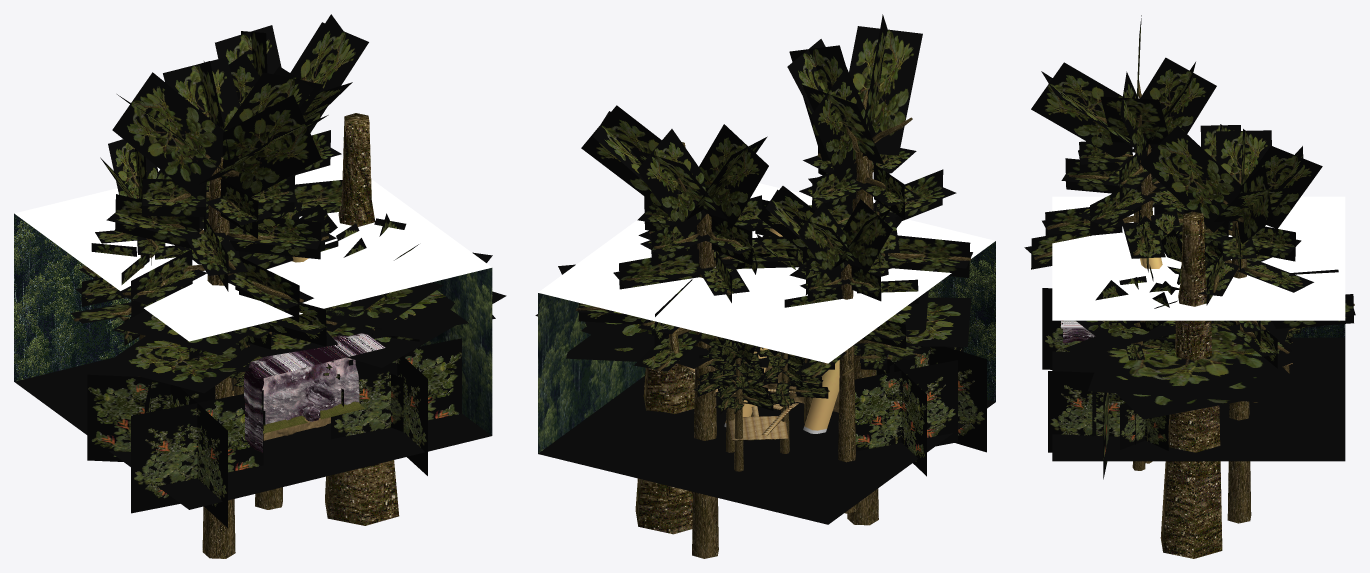
File: ForestRework.glb
3 renders of one model, left to right at view 1: azimuth 30°, elevation 25°; view 2: azimuth 150°, elevation 25°; view 3: azimuth 270°, elevation 25°, orthographic. The views are drawn at different scales.
Parts seen in each view (by area): view 1: tree.008, bush.001, skylight, skybox, void, bigTreeLeaves.003, tree.004, terrain, giantTree, tree.003, bigTreeLeaves.002, bigTreeLeaves (+2 smaller); view 2: tree.004, tree.008, void, skylight, tree.003, skybox, bush.001, giantTree, tree.002, bigTreeLeaves.003, tree.006, bigTreeLeaves.002 (+6 smaller); view 3: tree.004, tree.008, skylight, void, giantTree, bigTreeLeaves.002, bush.001, bigTreeLeaves.001, bigTreeLeaves, tree.011, bigTreeLeaves.003, tree.016 (+4 smaller).
Part boxes in pixels (left/top/right/bottom): tree.008: left=106, top=57, right=338, bottom=558; bush.001: left=87, top=338, right=461, bottom=527; skylight: left=14, top=155, right=491, bottom=341; skybox: left=14, top=213, right=492, bottom=435; void: left=14, top=357, right=491, bottom=509; bigTreeLeaves.003: left=101, top=282, right=443, bottom=393; tree.004: left=204, top=14, right=368, bottom=509; terrain: left=244, top=333, right=385, bottom=452; giantTree: left=325, top=113, right=399, bottom=525; tree.003: left=70, top=139, right=183, bottom=376; bigTreeLeaves.002: left=366, top=252, right=492, bottom=340; bigTreeLeaves: left=347, top=291, right=506, bottom=367; tree.004: left=576, top=105, right=802, bottom=558; tree.008: left=755, top=14, right=972, bottom=525; void: left=538, top=375, right=995, bottom=524; skylight: left=538, top=183, right=995, bottom=363; tree.003: left=757, top=186, right=924, bottom=513; skybox: left=538, top=241, right=995, bottom=453; bush.001: left=716, top=346, right=986, bottom=476; giantTree: left=635, top=142, right=694, bottom=534; tree.002: left=706, top=336, right=776, bottom=471; bigTreeLeaves.003: left=854, top=290, right=971, bottom=346; tree.006: left=763, top=349, right=829, bottom=453; bigTreeLeaves.002: left=558, top=264, right=700, bottom=349; tree.004: left=1140, top=125, right=1355, bottom=523; tree.008: left=1024, top=15, right=1231, bottom=463; skylight: left=1052, top=196, right=1345, bottom=320; void: left=1052, top=337, right=1345, bottom=461; giantTree: left=1160, top=211, right=1222, bottom=558; bigTreeLeaves.002: left=1064, top=327, right=1313, bottom=404; bush.001: left=1042, top=288, right=1169, bottom=479; bigTreeLeaves.001: left=1088, top=328, right=1289, bottom=402; bigTreeLeaves: left=1075, top=354, right=1305, bottom=419; tree.011: left=1095, top=276, right=1179, bottom=470; bigTreeLeaves.003: left=1076, top=320, right=1176, bottom=348; tree.016: left=1128, top=211, right=1208, bottom=251.
Bounding box in the file's own units: 1191 × 1436 × 997.
15 materials, 12 textured.
